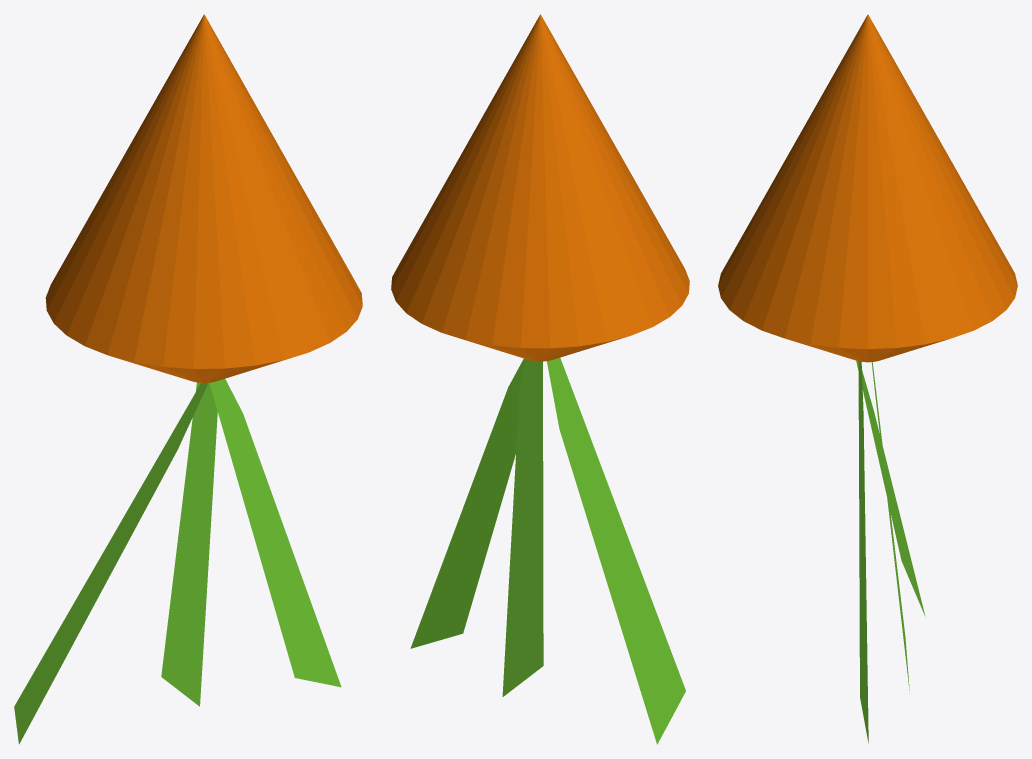
The model's file is CarrotCrop.fbx.
3 renders of one model, left to right at view 1: azimuth 30°, elevation 25°; view 2: azimuth 150°, elevation 25°; view 3: azimuth 270°, elevation 25°, orthographic. The views are drawn at different scales.
Visible parts, largest first — view 1: Cone, Plane.001, Plane, Plane.002; view 2: Cone, Plane.002, Plane, Plane.001; view 3: Cone, Plane.001, Plane.002, Plane.
Boxes of the visible parts, box(x1,y1,x2,y2) form: Cone: box(45, 14, 362, 382); Plane.001: box(209, 379, 341, 687); Plane: box(161, 382, 217, 706); Plane.002: box(14, 383, 208, 744); Cone: box(391, 14, 689, 361); Plane.002: box(547, 357, 685, 744); Plane: box(502, 358, 543, 696); Plane.001: box(410, 359, 524, 648); Cone: box(718, 14, 1017, 362); Plane.001: box(858, 361, 868, 743); Plane.002: box(856, 361, 925, 616); Plane: box(871, 362, 909, 693).
Bounding box in the file's own units: 225 × 497 × 200.
